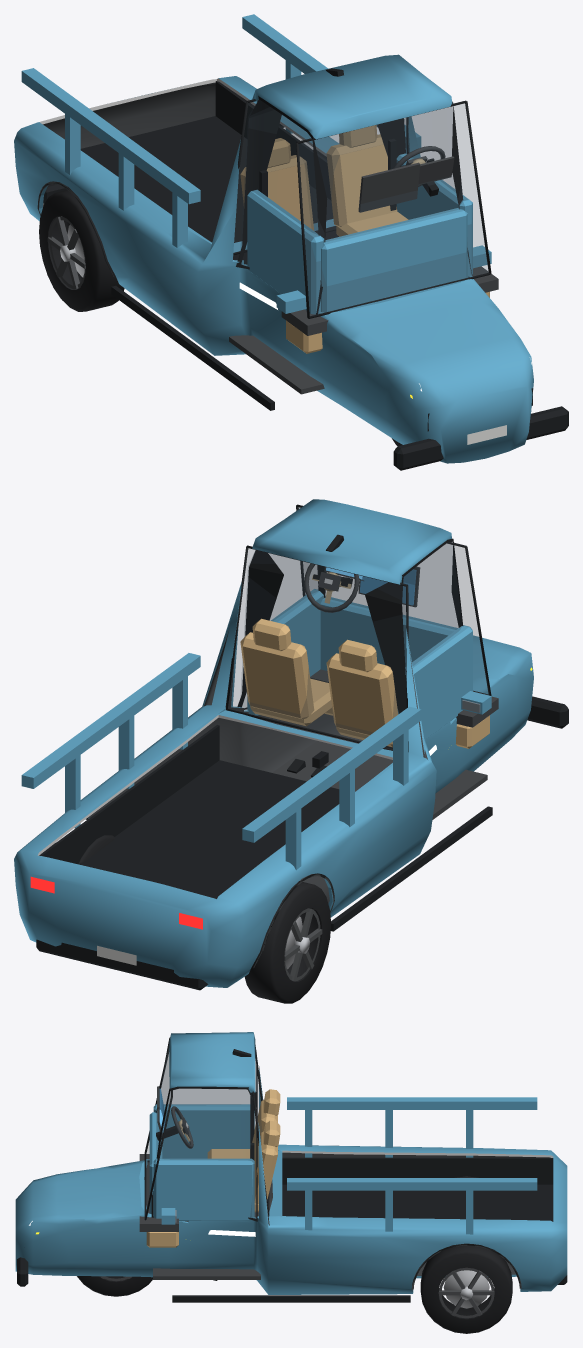
File: fleet-cargo_trike.glb
The picture shows the model from 3 angles, top to bottom: view 1: azimuth 30°, elevation 25°; view 2: azimuth 150°, elevation 25°; view 3: azimuth 270°, elevation 25°; orthographic projection. The views are drawn at different scales.
Parts seen in each view (by area): view 1: Body, Surface_CarRoot_Paint, Surface_CarRoot_Glass, Surface_CarRoot_BlackTrim, Interior_CarRoot_InteriorLeather, Interior_CarRoot_InteriorDark, WheelRearR_Tyre, Surface_WheelRearR_Rim, InteriorSeatBaseL, Interior_CarRoot_BlackTrim; view 2: Body, Surface_CarRoot_BlackTrim, Surface_CarRoot_Paint, Surface_CarRoot_Glass, Interior_CarRoot_InteriorLeather, WheelRearR_Tyre, Interior_CarRoot_InteriorDark, Surface_WheelRearR_Rim, InteriorSeatBaseL, InteriorCenterScreen; view 3: Body, Surface_CarRoot_Paint, Surface_CarRoot_BlackTrim, Surface_CarRoot_Glass, WheelRearL_Tyre, Interior_CarRoot_InteriorLeather, Interior_CarRoot_InteriorDark, WheelFrontL_Tyre, Surface_WheelRearL_Rim, WheelRearL_BrakeDisc, Interior_CarRoot_BlackTrim.
Boxes of the visible parts, <box> form: Body: <box>14,54,533,463</box>; Surface_CarRoot_Paint: <box>21,14,491,314</box>; Surface_CarRoot_Glass: <box>233,99,488,315</box>; Surface_CarRoot_BlackTrim: <box>43,68,568,470</box>; Interior_CarRoot_InteriorLeather: <box>240,125,489,353</box>; Interior_CarRoot_InteriorDark: <box>229,156,498,394</box>; WheelRearR_Tyre: <box>39,189,124,311</box>; Surface_WheelRearR_Rim: <box>47,216,85,289</box>; InteriorSeatBaseL: <box>336,211,408,236</box>; Interior_CarRoot_BlackTrim: <box>259,138,438,210</box>; Body: <box>14,499,533,987</box>; Surface_CarRoot_BlackTrim: <box>36,504,568,990</box>; Surface_CarRoot_Paint: <box>21,589,491,870</box>; Surface_CarRoot_Glass: <box>228,508,487,748</box>; Interior_CarRoot_InteriorLeather: <box>240,618,489,748</box>; WheelRearR_Tyre: <box>244,881,331,1003</box>; Interior_CarRoot_InteriorDark: <box>272,566,498,819</box>; Surface_WheelRearR_Rim: <box>284,908,322,981</box>; InteriorSeatBaseL: <box>250,678,331,726</box>; InteriorCenterScreen: <box>359,569,416,605</box>; Body: <box>15,1032,567,1294</box>; Surface_CarRoot_Paint: <box>149,1097,537,1234</box>; Surface_CarRoot_BlackTrim: <box>17,1037,567,1302</box>; Surface_CarRoot_Glass: <box>146,1043,267,1218</box>; WheelRearL_Tyre: <box>420,1243,512,1333</box>; Interior_CarRoot_InteriorLeather: <box>146,1089,280,1247</box>; Interior_CarRoot_InteriorDark: <box>139,1086,260,1279</box>; WheelFrontL_Tyre: <box>77,1276,152,1296</box>; Surface_WheelRearL_Rim: <box>438,1267,494,1318</box>; WheelRearL_BrakeDisc: <box>443,1270,489,1308</box>; Interior_CarRoot_BlackTrim: <box>156,1096,254,1280</box>.
Bounding box in the file's own units: 1.82 × 2.32 × 4.83.
